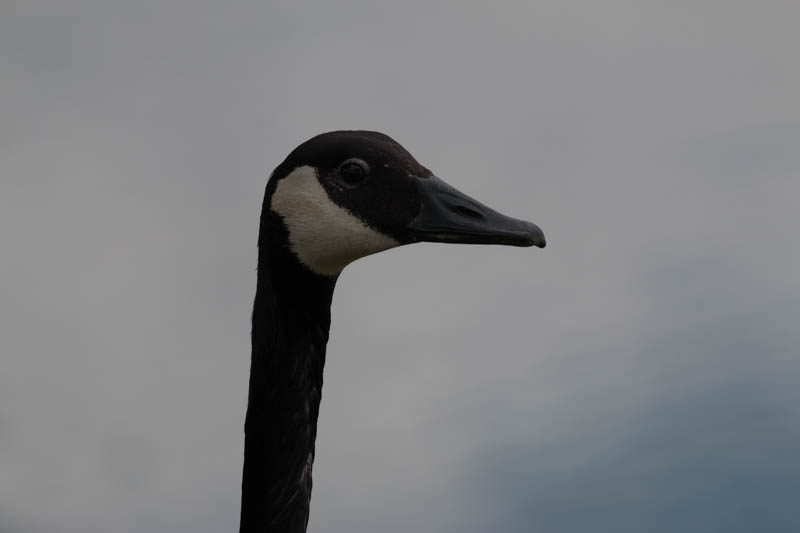goose-head: (260, 129, 547, 279)
